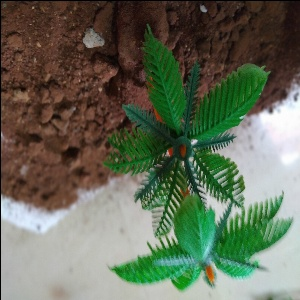plant: (119, 27, 295, 295)
